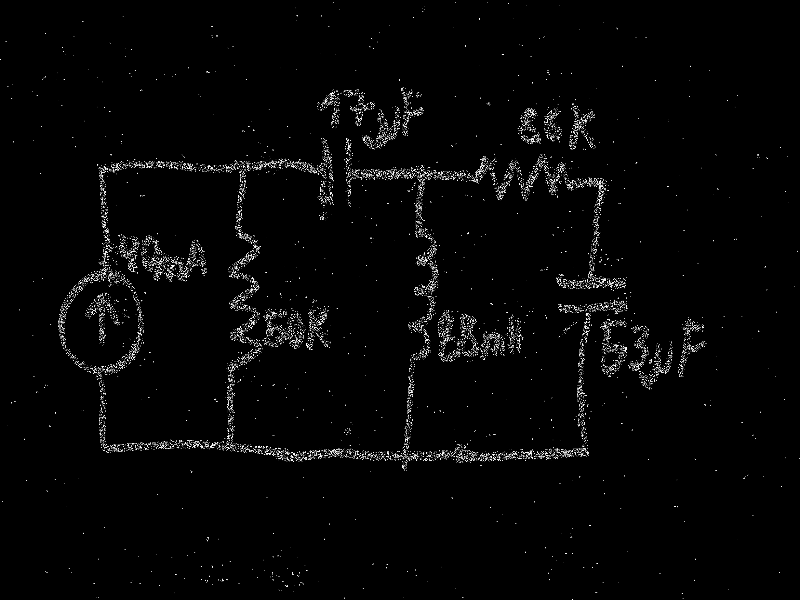0: (141, 234, 160, 275), (286, 312, 306, 349)
1: (314, 86, 341, 134)
3: (627, 324, 650, 373)
4: (117, 232, 140, 275)
5: (599, 319, 628, 379), (263, 307, 287, 349)
6: (542, 106, 564, 144)
7: (341, 87, 375, 130)
8: (436, 308, 462, 365), (458, 312, 479, 361), (516, 107, 541, 147)
A: (184, 237, 209, 283)
F: (677, 317, 708, 377), (400, 88, 426, 139)
H: (507, 315, 524, 356)
k: (569, 101, 597, 153), (305, 307, 330, 352)
m: (155, 255, 184, 283), (479, 332, 507, 359)
u: (375, 107, 400, 152), (651, 341, 675, 383)
